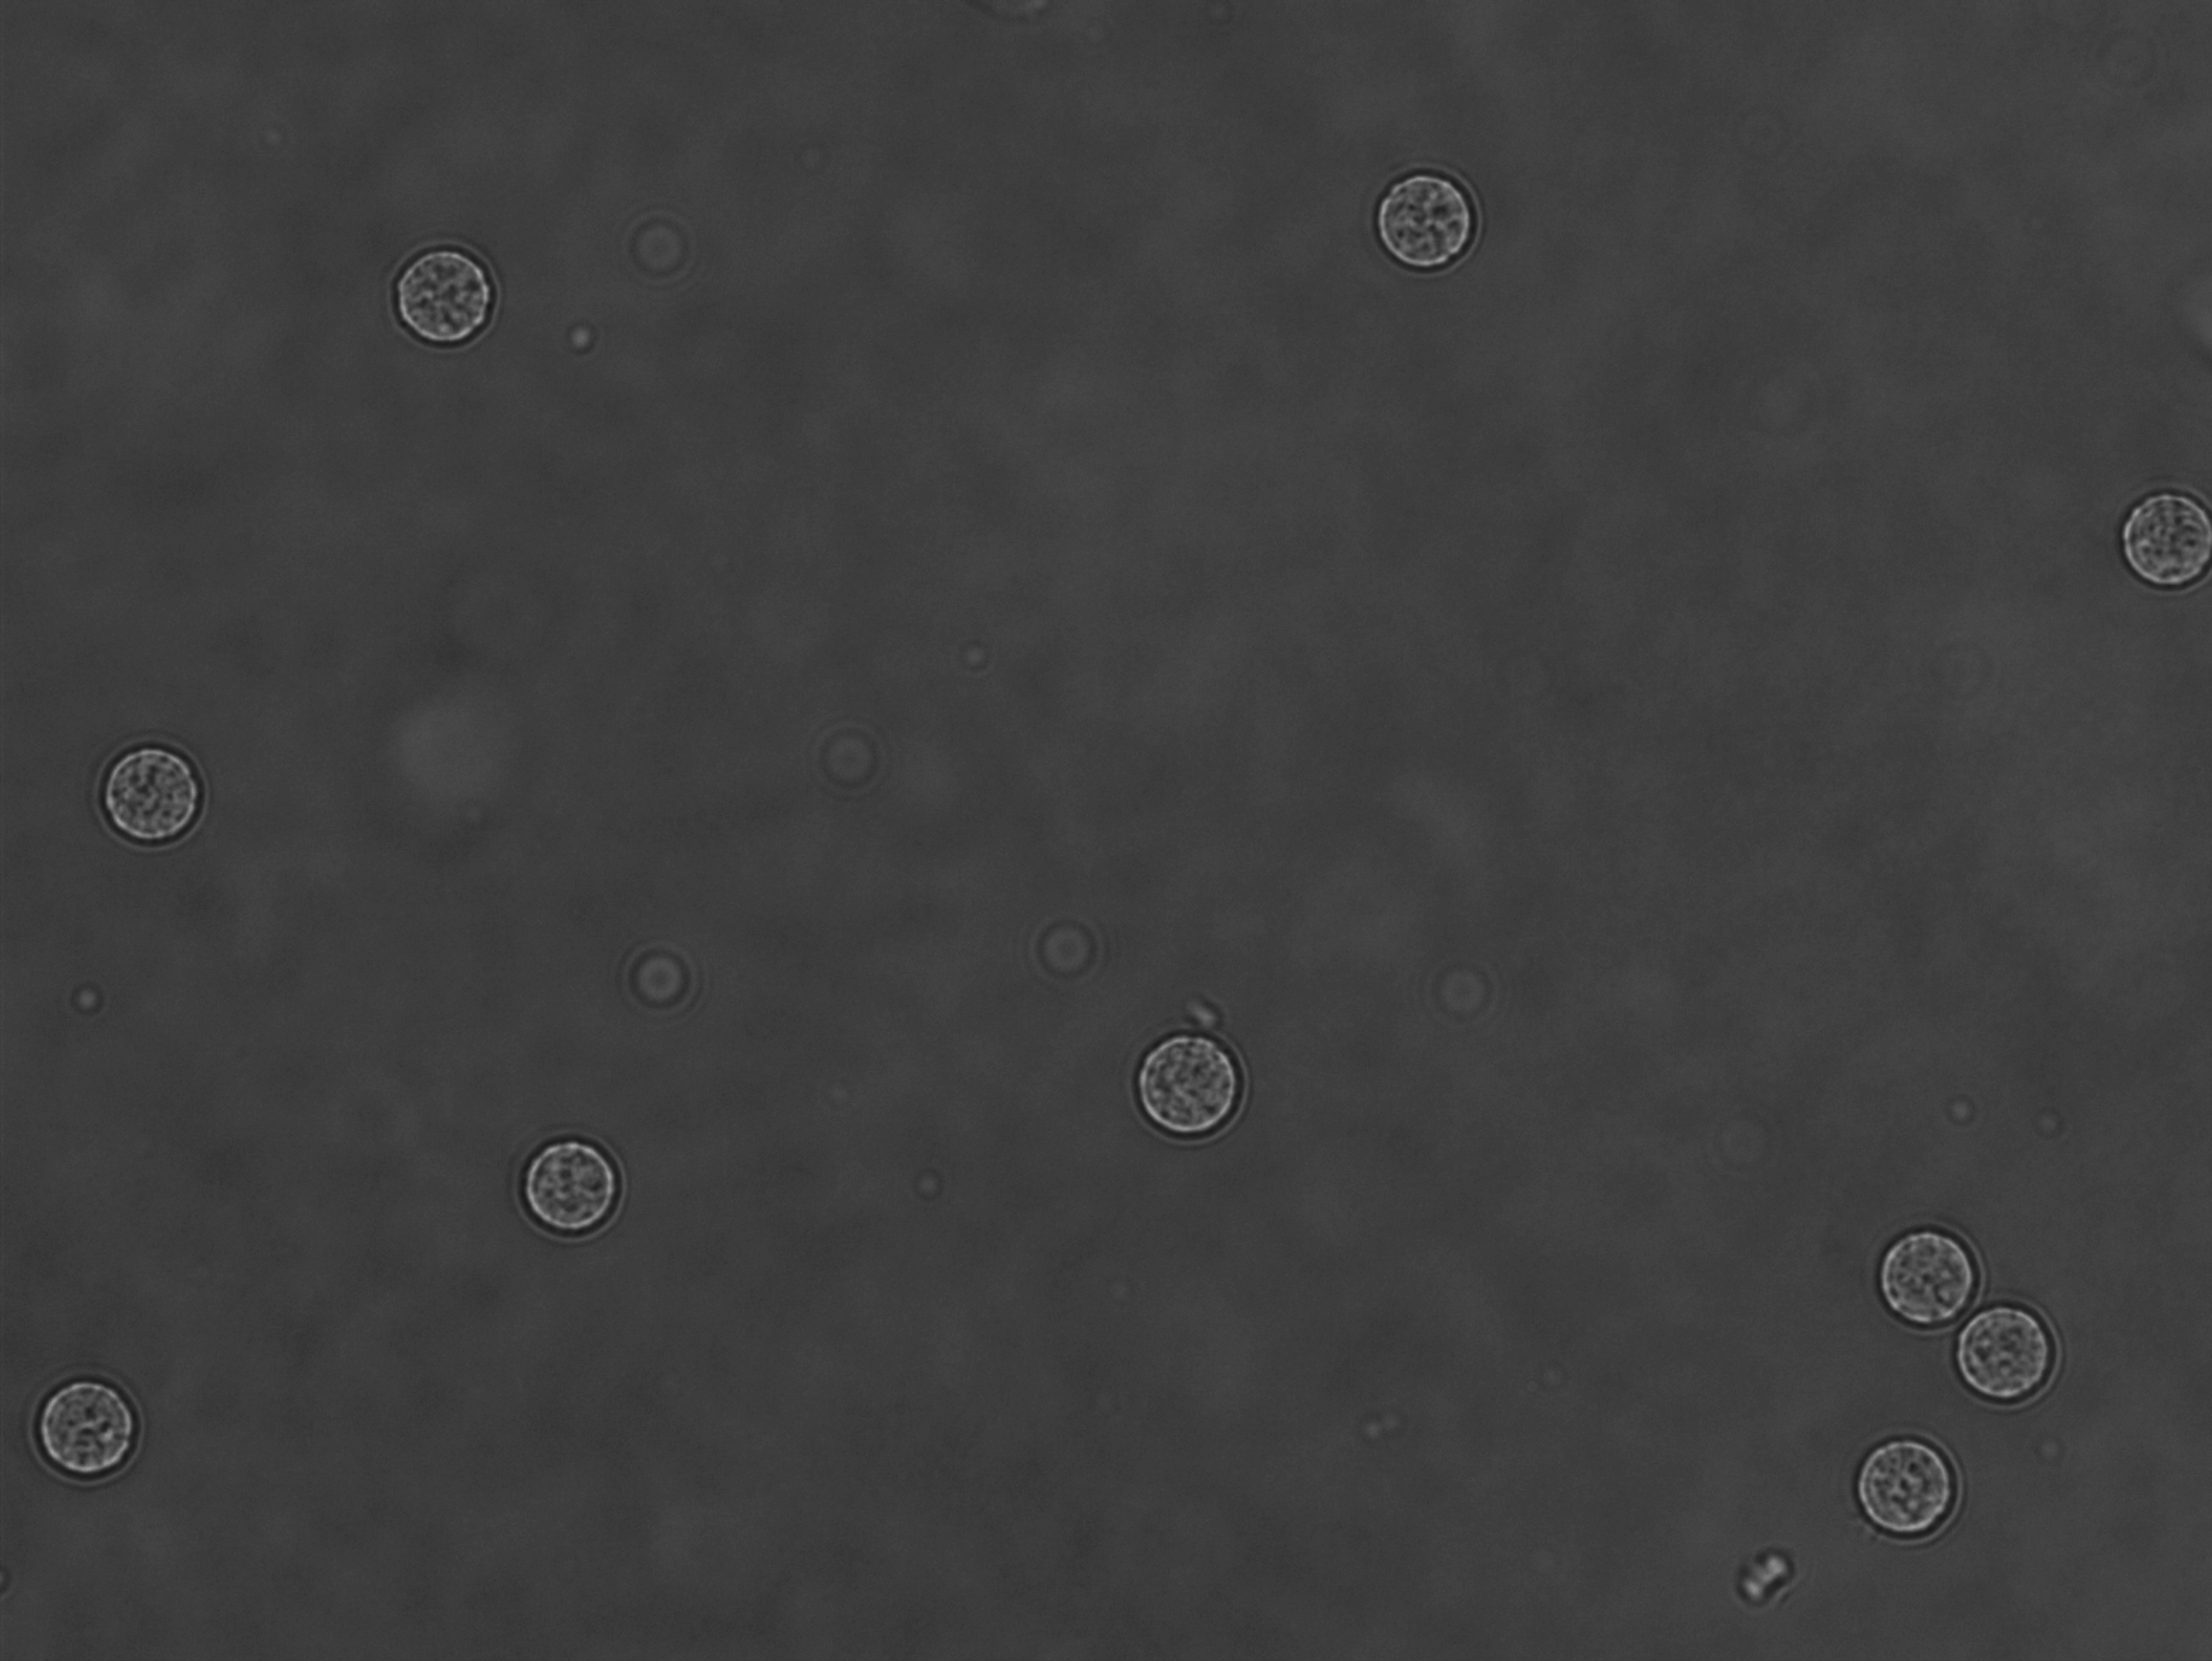depth:0: (1108, 1005, 1293, 1153), (494, 1094, 647, 1261), (1942, 1267, 2090, 1418), (19, 1335, 157, 1488), (1840, 1413, 1978, 1548), (1847, 1204, 1994, 1328), (82, 728, 216, 860), (1355, 157, 1495, 283), (2106, 461, 2212, 616), (389, 229, 513, 354)
